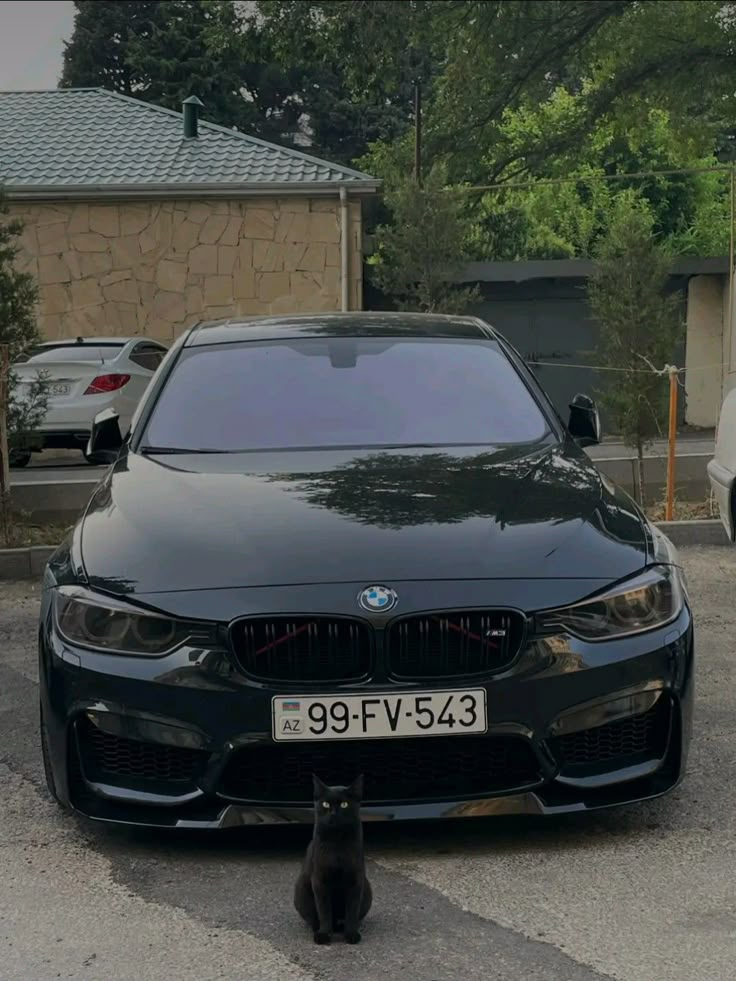plate: (267, 685, 490, 741)
